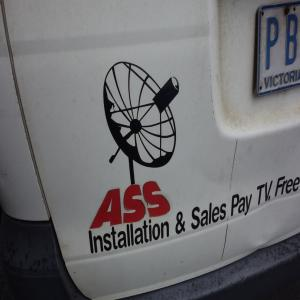Vehicle-registration-plate: (256, 1, 299, 96)
